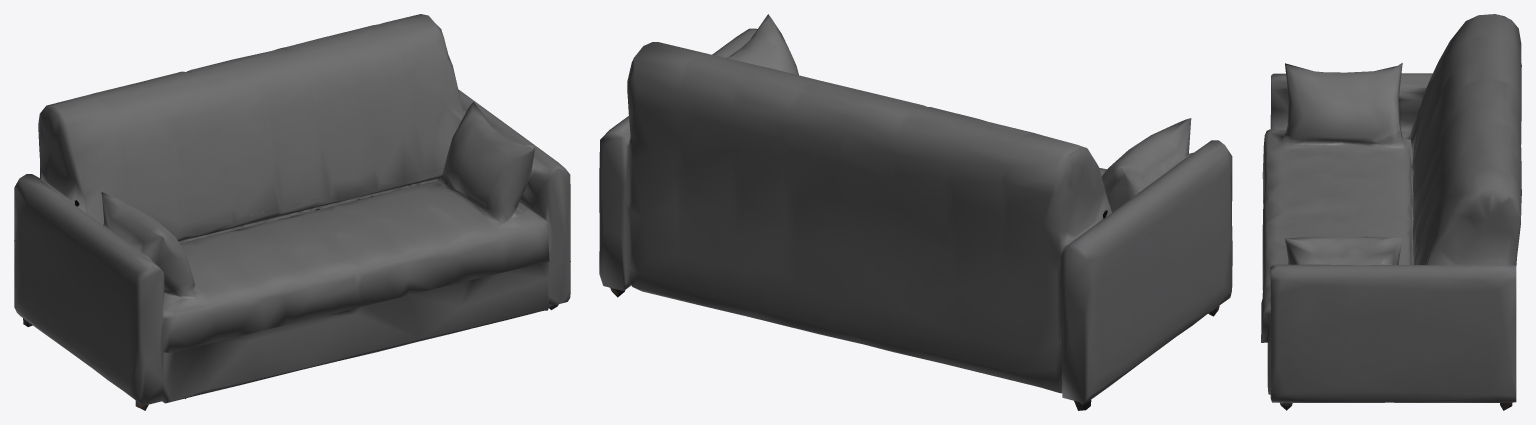
The picture shows the model from 3 angles, left to right: view 1: azimuth 30°, elevation 25°; view 2: azimuth 150°, elevation 25°; view 3: azimuth 270°, elevation 25°; orthographic projection. The views are drawn at different scales.
Parts seen in each view (by area): view 1: Mesh1.0; view 2: Mesh1.0; view 3: Mesh1.0.
Boxes of the visible parts, <box> form: Mesh1.0: <box>14,14,570,410</box>; Mesh1.0: <box>599,14,1232,410</box>; Mesh1.0: <box>1261,14,1521,410</box>.
Size of the model in its own units: 1.91 by 0.936 by 1.03.
Materials: 1 (1 with a texture image).
